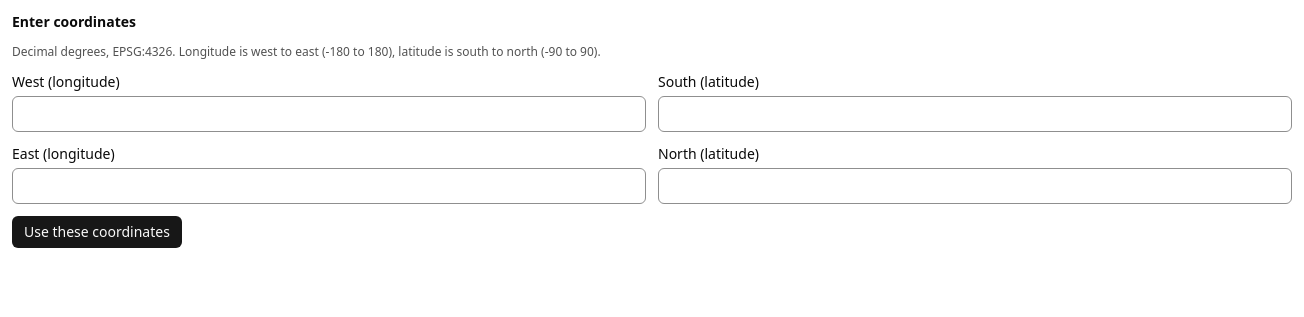
Scenario: CoordinateInputs › marks each out-of-range field with its allowed range
In the field labelled "West (longitude)": (329, 114) [12, 96, 646, 132], type "-200"
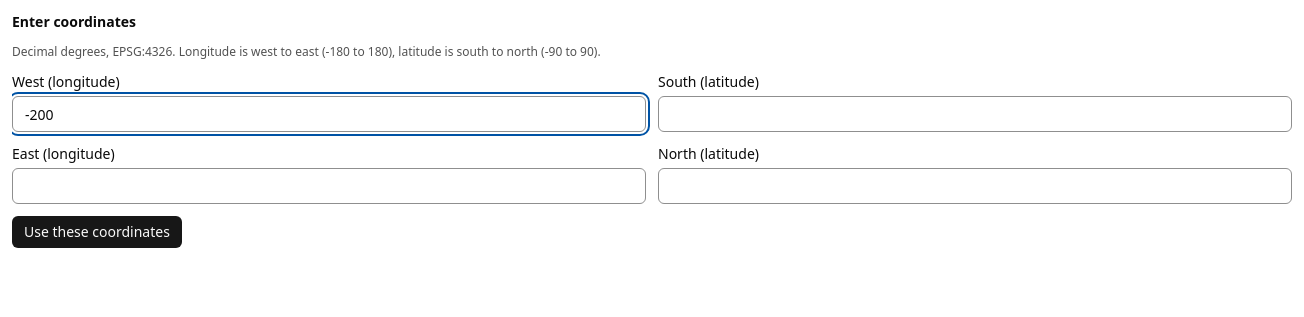
In the field labelled "South (latitude)": (975, 114) [658, 96, 1292, 132], type "36"
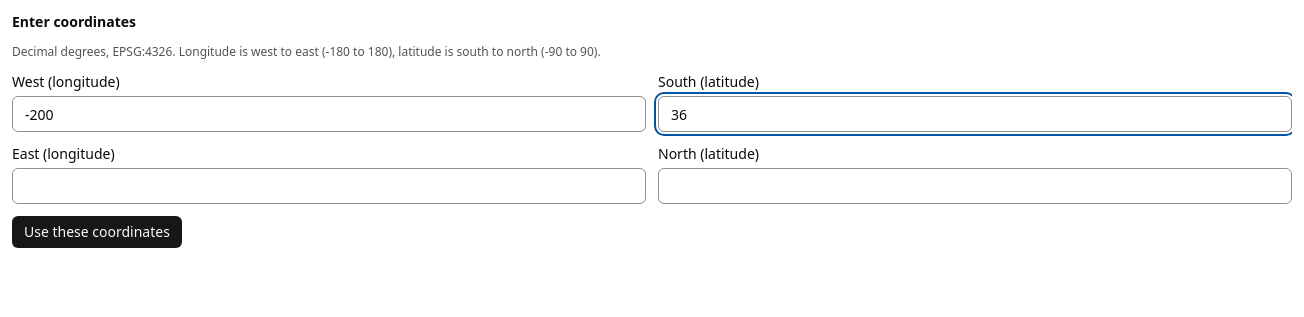
In the field labelled "East (longitude)": (329, 186) [12, 168, 646, 204], type "-119"
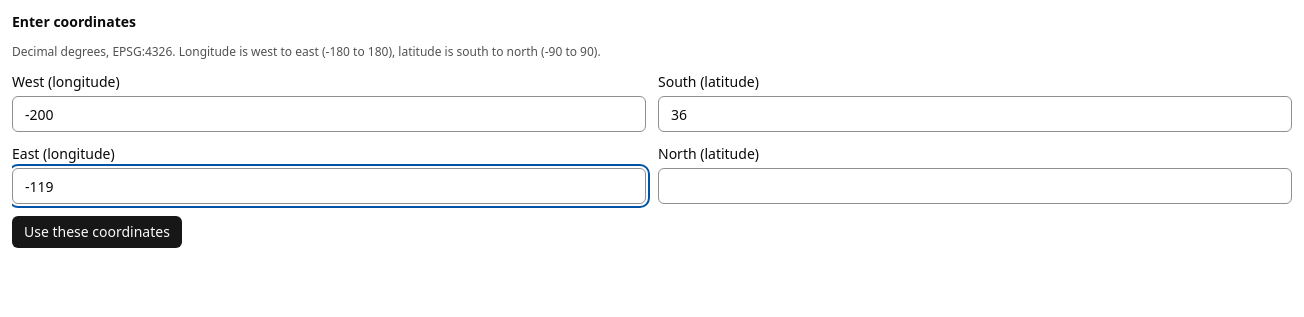
In the field labelled "North (latitude)": (975, 186) [658, 168, 1292, 204], type "95"
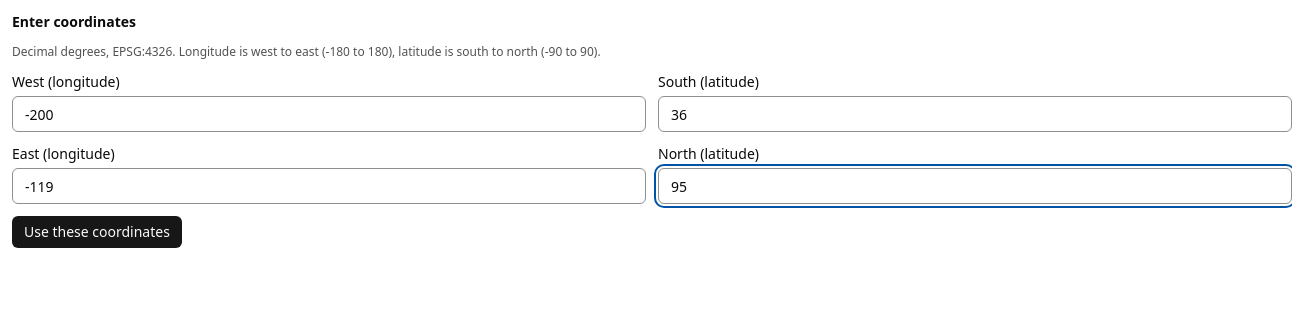
Click the button "Use these coordinates": (97, 232) [12, 216, 182, 248]
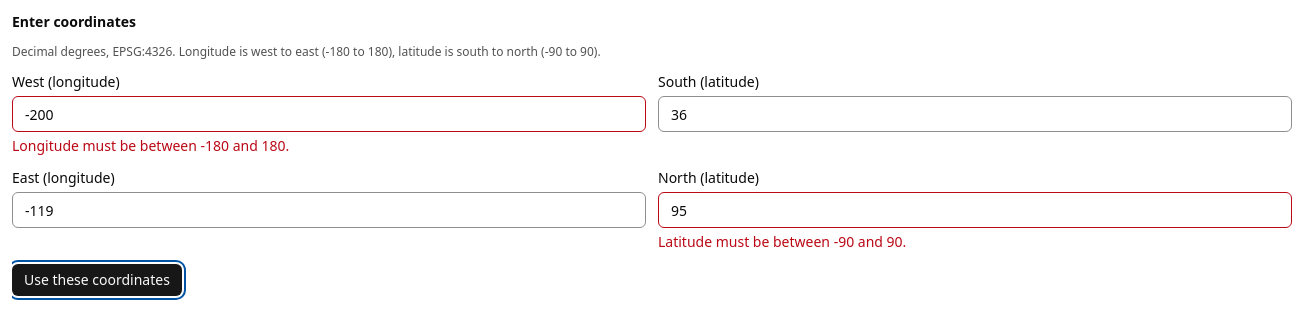
Expected: the messages read "Longitude must be between -180 and 180.", "Latitude must be between -90 and 90.", in this order, [12, 136, 289, 155]; [658, 232, 906, 251]
